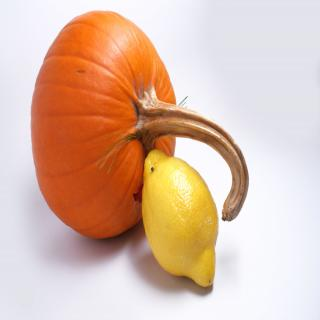Lemon: (138, 147, 222, 292)
Orange: (141, 149, 219, 287)
